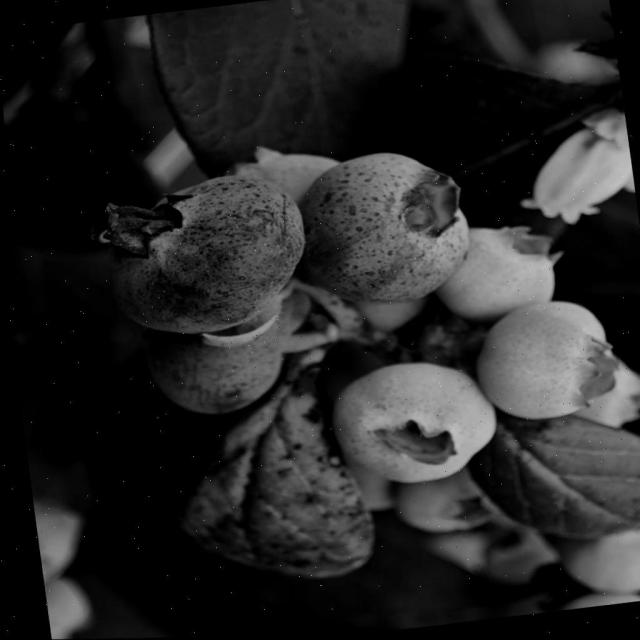Semi-RipeBlueBerry: (102, 169, 316, 342), (292, 145, 474, 312)
UnripeBlueBerry: (328, 357, 502, 495), (465, 300, 624, 431)
